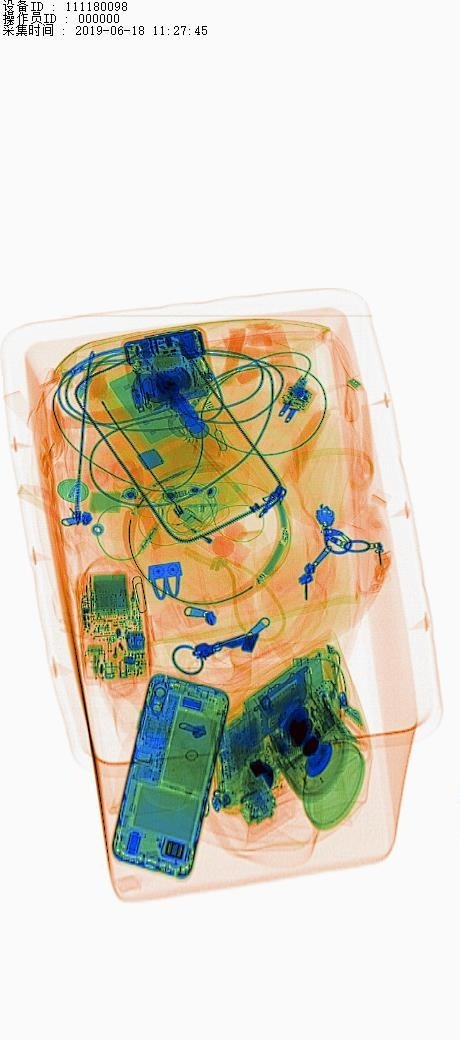NonmetallicFire: (157, 490, 259, 574)
